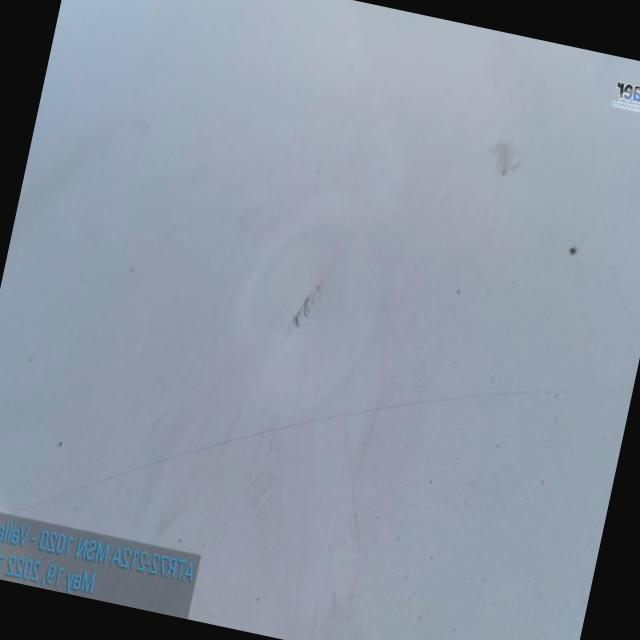dent: (192, 170, 397, 431)
